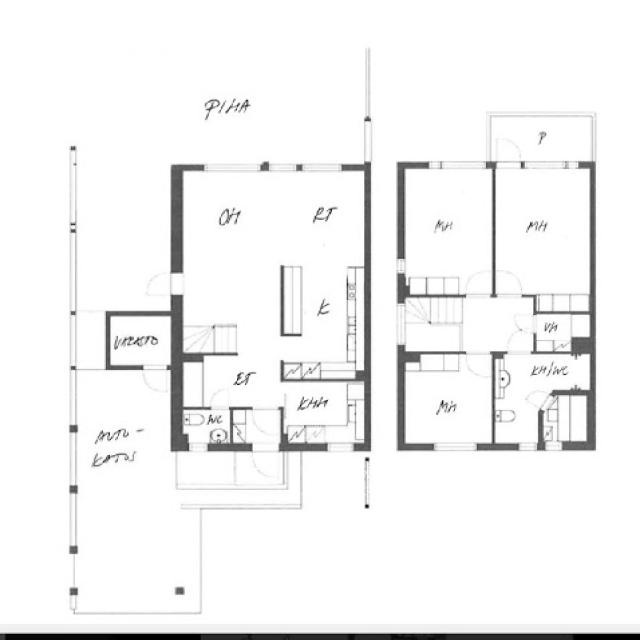door: (249, 441, 281, 484), (142, 268, 180, 301), (493, 264, 523, 302), (493, 133, 523, 171), (250, 403, 282, 437), (140, 362, 171, 396), (463, 348, 492, 381), (465, 265, 492, 300), (505, 326, 531, 359), (207, 385, 233, 412), (514, 310, 537, 336), (524, 387, 548, 411)
window: (65, 423, 82, 495), (263, 160, 342, 175), (424, 156, 489, 174), (520, 157, 579, 174), (67, 485, 81, 555), (201, 160, 262, 176), (429, 439, 480, 455), (393, 299, 408, 353), (323, 439, 359, 455), (515, 440, 540, 456), (542, 440, 566, 455), (186, 440, 210, 454), (395, 254, 407, 280)
zone: (180, 169, 368, 273), (280, 204, 364, 380), (496, 157, 590, 306), (404, 159, 492, 303), (404, 348, 489, 451), (286, 377, 366, 450), (502, 346, 594, 397), (109, 311, 172, 369), (544, 390, 592, 450), (535, 310, 590, 356), (182, 405, 230, 449)
